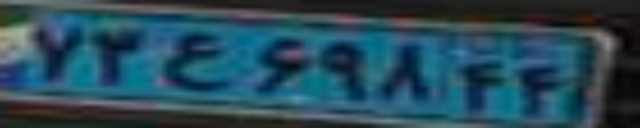3: (91, 24, 146, 85)
4: (458, 61, 508, 112), (516, 65, 564, 118)
6: (254, 37, 307, 93)
7: (30, 23, 83, 83)
8: (378, 44, 434, 103)
9: (319, 42, 365, 101)
ain: (159, 32, 226, 91)
